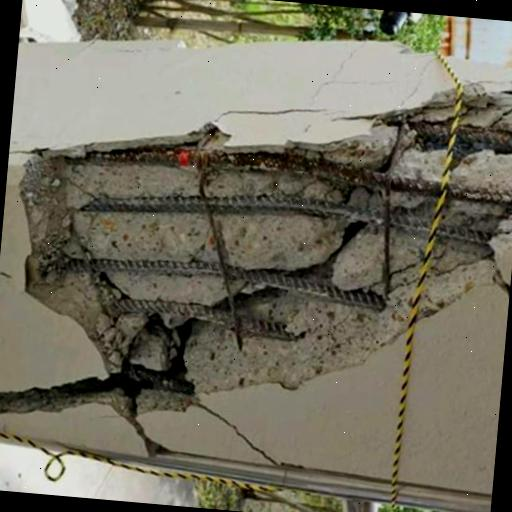spalling: (0, 82, 512, 463), (206, 410, 285, 471), (220, 102, 324, 122)
